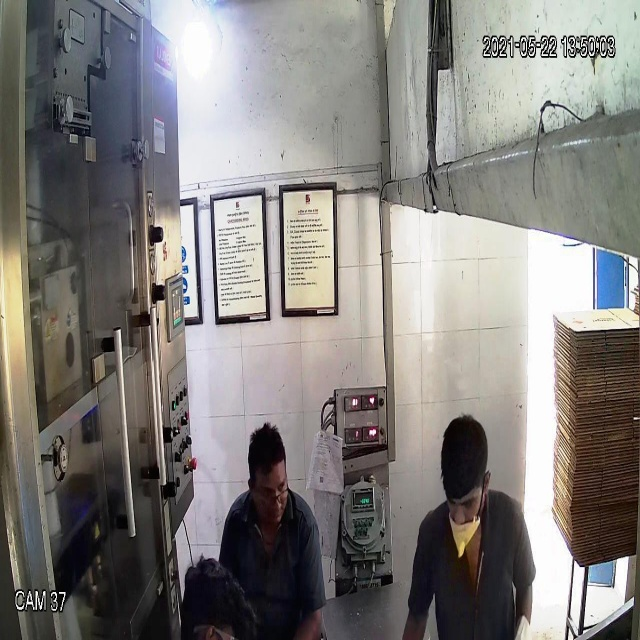Gafas: (244, 476, 292, 507)
